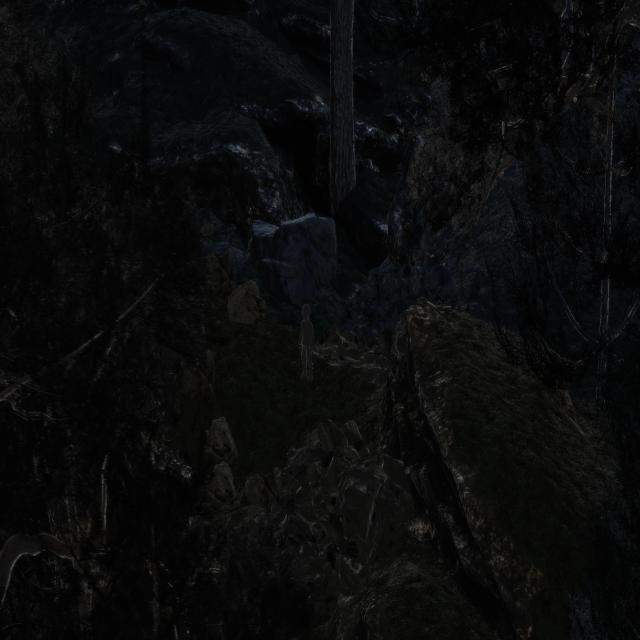Human: (290, 299, 321, 392)
